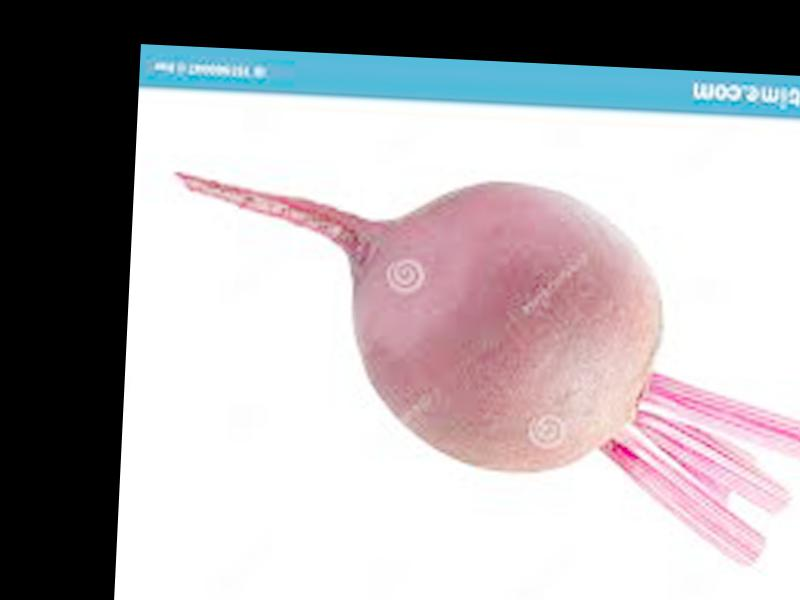Beet: (163, 171, 800, 566)
